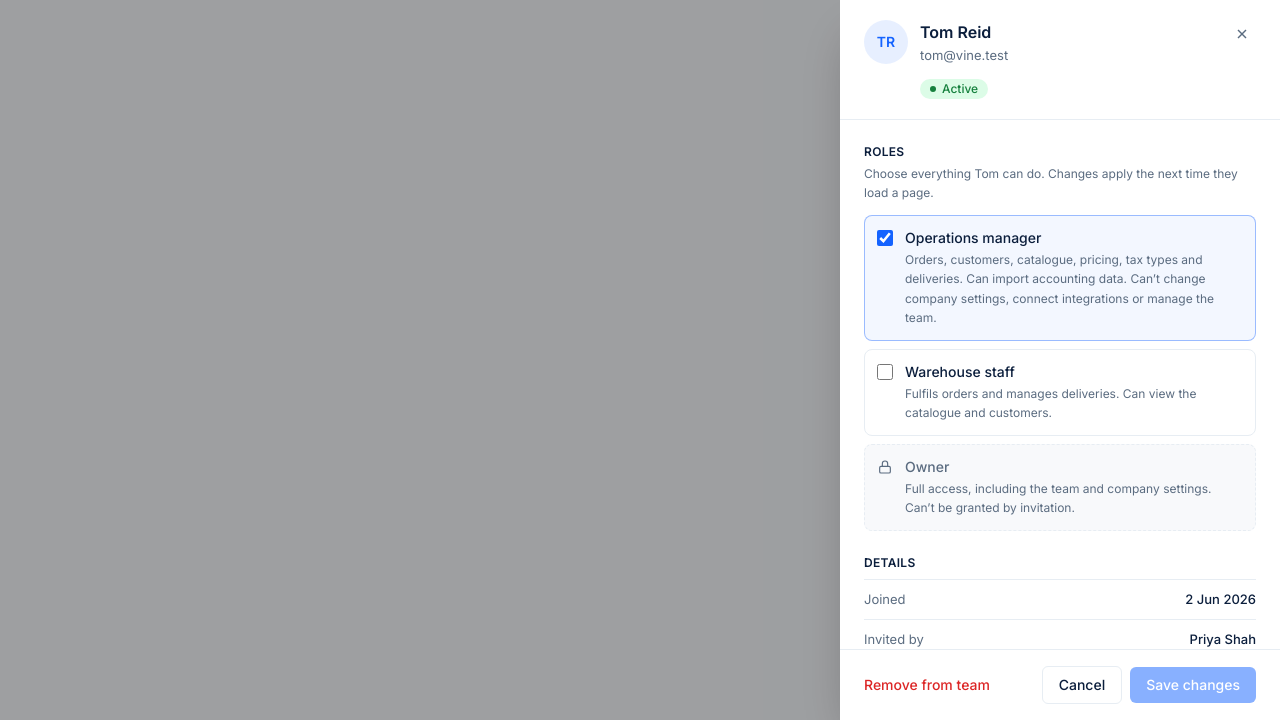
it: TeamPersonDrawer — a team member › will not let every role be removed, and points at Remove from team instead
Click the checkbox labelled "Operations manager" at coordinates (885, 238), box x1=877 y1=230 x2=893 y2=246
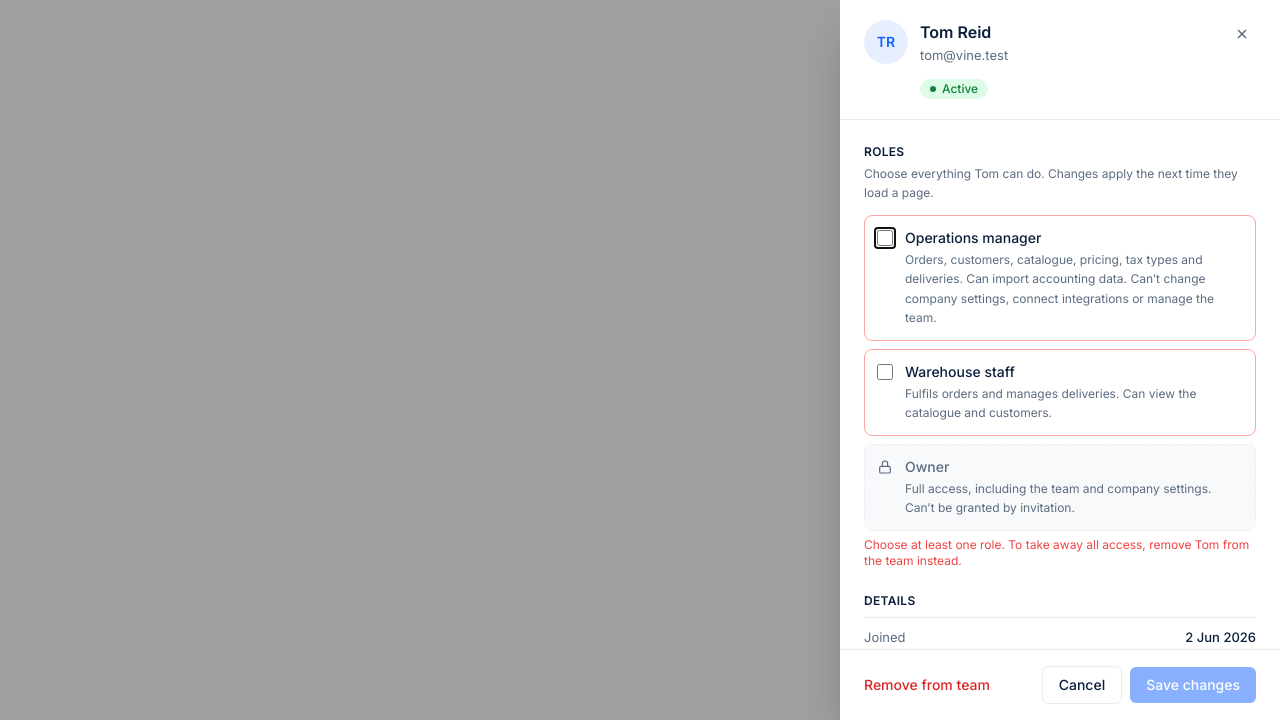
Expected: the button "Save changes" is disabled, x1=1130 y1=667 x2=1256 y2=703
Now the message shows "Choose at least one role. To take away all access, remove Tom from the team instead.", box x1=864 y1=536 x2=1249 y2=568
